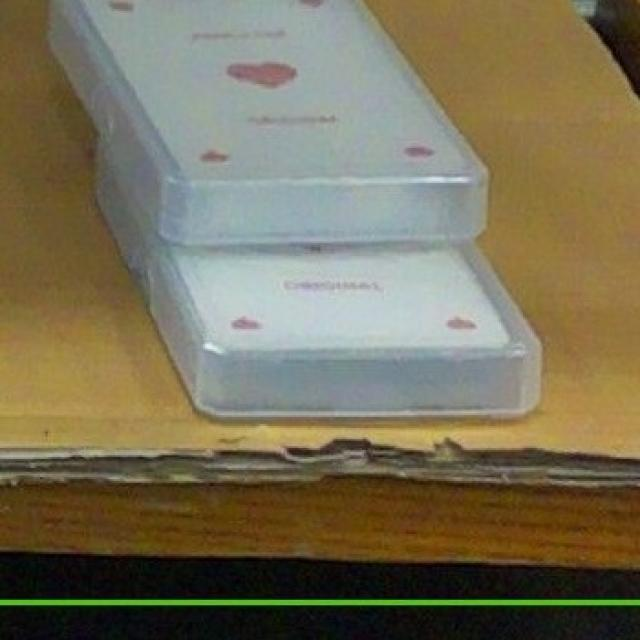Jasskarte: (49, 0, 486, 245), (139, 245, 538, 417)
